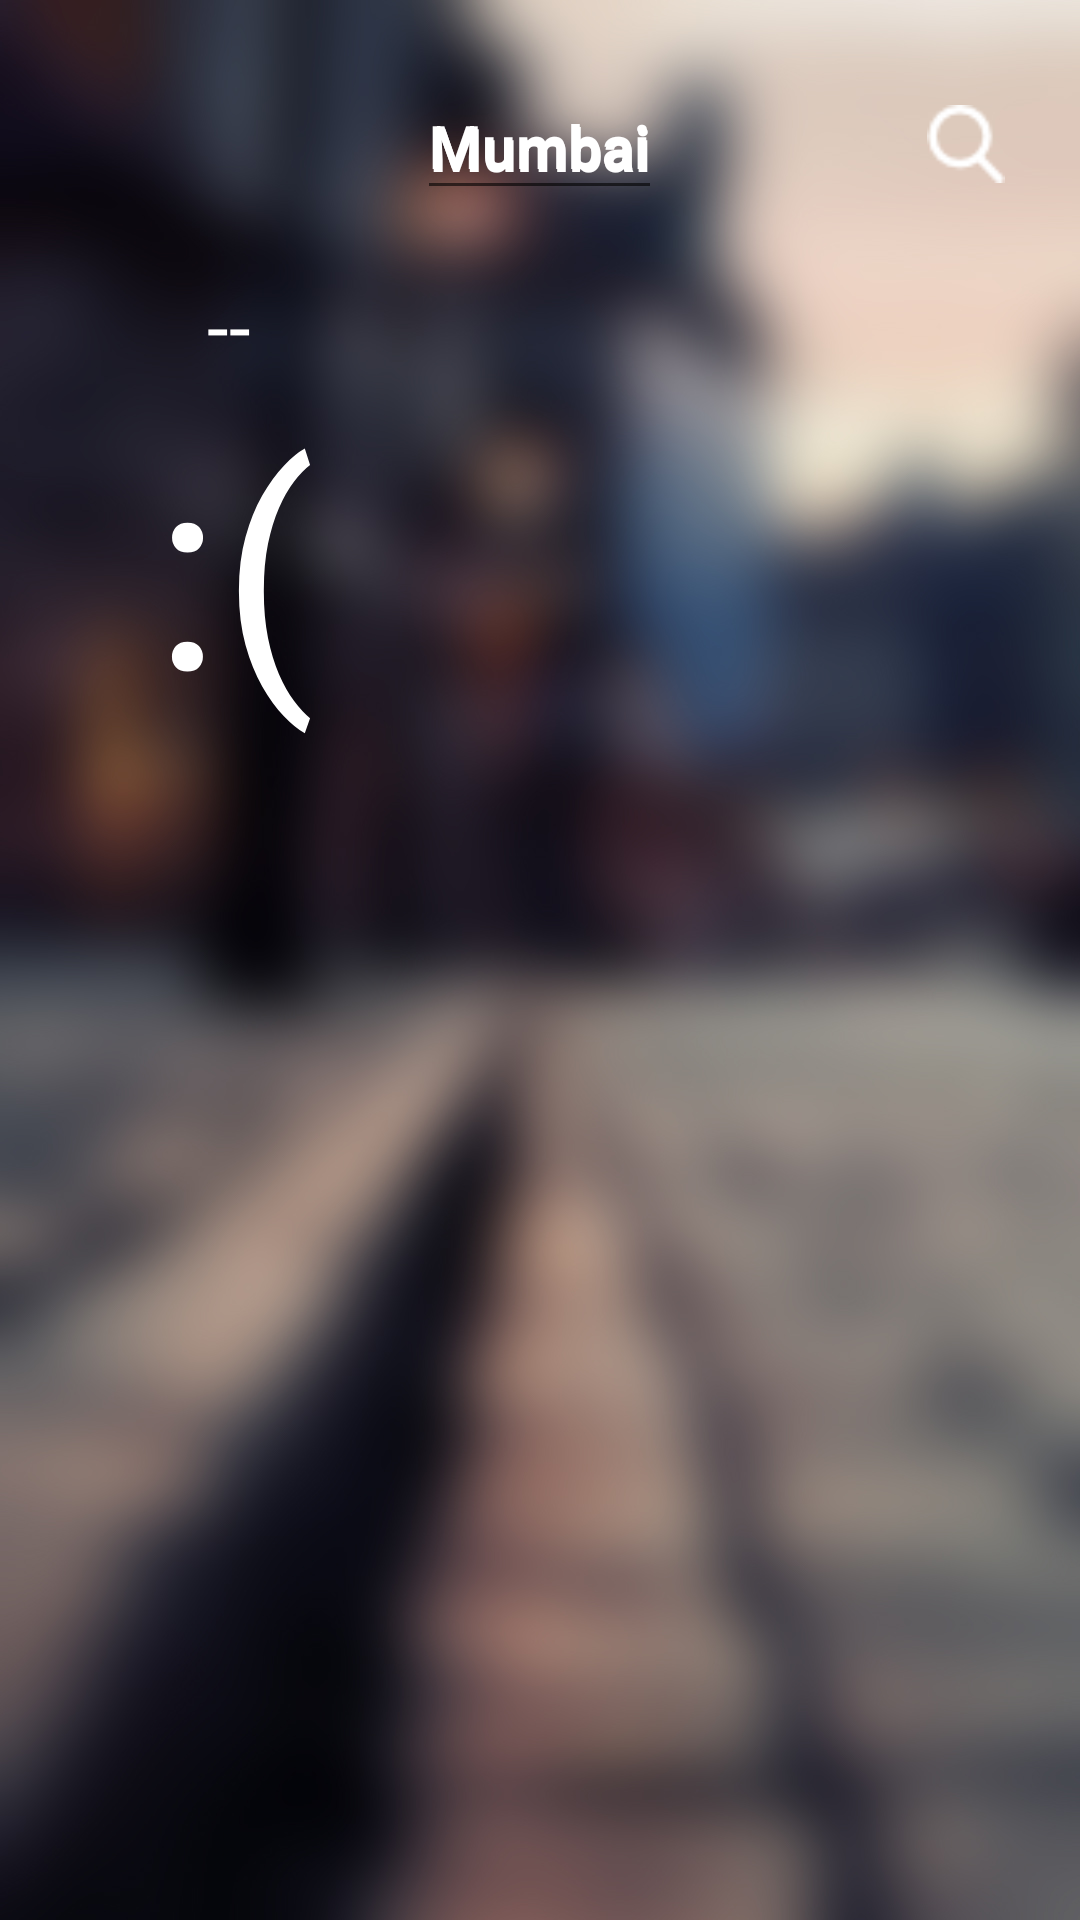

Named icons in this screenshot (1080*1920) and their centers, [x,y]:
search: [966,144]
